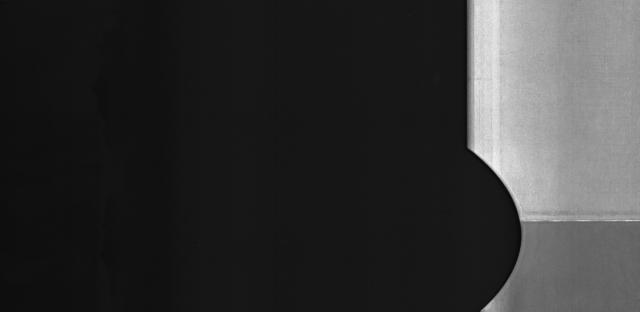crescent_gap: (447, 136, 532, 312)
welding_line: (508, 214, 640, 230)
